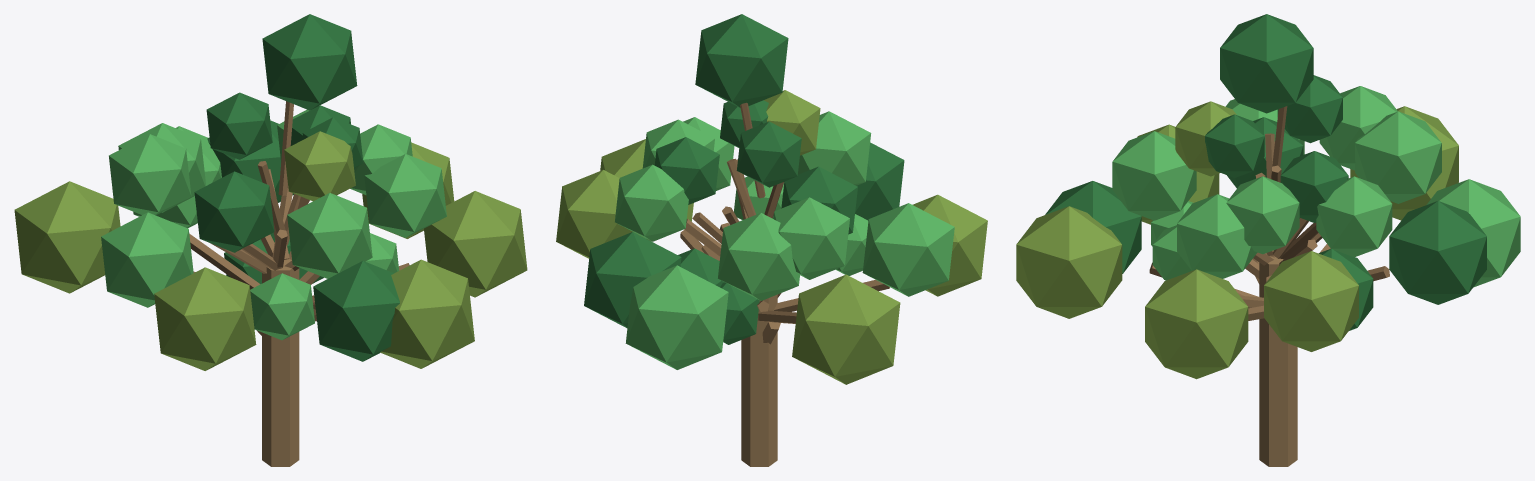
File: Tree_09.glb
3 views of the same model, side by side, from view 1: azimuth 30°, elevation 25°; view 2: azimuth 150°, elevation 25°; view 3: azimuth 270°, elevation 25° (orthographic). The views are drawn at different scales.
Parts seen in each view (by area): view 1: T09_Sphere_07, T09_Sphere_08, T09_Sphere_05, T09_Sphere_09, T09_Sphere_03, T09_Sphere_13, T09_Sphere_12, T09_Sphere_18, T09_Trunk, T09_Sphere_14, T09_Sphere_20, T09_Sphere_17 (+14 smaller); view 2: T09_Sphere_07, T09_Sphere_11, T09_Sphere_03, T09_Sphere_12, T09_Sphere_16, T09_Trunk, T09_Sphere_06, T09_Sphere_20, T09_Sphere_10, T09_Sphere_15, T09_Sphere_08, T09_Sphere_18 (+16 smaller); view 3: T09_Sphere_09, T09_Sphere_05, T09_Sphere_06, T09_Sphere_10, T09_Sphere_03, T09_Sphere_16, T09_Trunk, T09_Sphere_18, T09_Sphere_14, T09_Sphere_15, T09_Sphere_11, T09_Sphere_19 (+14 smaller).
Boxes of the visible parts, <box> form: T09_Sphere_07: <box>14,181,120,293</box>; T09_Sphere_08: <box>154,267,256,370</box>; T09_Sphere_05: <box>424,191,527,297</box>; T09_Sphere_09: <box>380,259,474,368</box>; T09_Sphere_03: <box>262,14,357,110</box>; T09_Sphere_13: <box>313,261,399,361</box>; T09_Sphere_12: <box>101,212,193,307</box>; T09_Sphere_18: <box>287,193,372,278</box>; T09_Trunk: <box>262,259,299,466</box>; T09_Sphere_14: <box>364,154,446,237</box>; T09_Sphere_20: <box>109,134,191,215</box>; T09_Sphere_17: <box>194,171,274,252</box>; T09_Sphere_07: <box>792,274,900,384</box>; T09_Sphere_11: <box>625,265,728,369</box>; T09_Sphere_03: <box>695,14,788,107</box>; T09_Sphere_12: <box>862,203,954,296</box>; T09_Sphere_16: <box>718,213,800,300</box>; T09_Trunk: <box>741,294,777,466</box>; T09_Sphere_06: <box>584,232,681,327</box>; T09_Sphere_20: <box>773,197,849,279</box>; T09_Sphere_10: <box>556,170,645,258</box>; T09_Sphere_15: <box>615,164,688,241</box>; T09_Sphere_08: <box>912,194,987,296</box>; T09_Sphere_18: <box>797,111,871,185</box>; T09_Sphere_09: <box>1016,206,1122,318</box>; T09_Sphere_05: <box>1145,269,1248,379</box>; T09_Sphere_06: <box>1389,201,1486,304</box>; T09_Sphere_10: <box>1264,251,1358,351</box>; T09_Sphere_03: <box>1220,14,1313,113</box>; T09_Sphere_16: <box>1355,111,1441,203</box>; T09_Trunk: <box>1259,253,1297,466</box>; T09_Sphere_18: <box>1112,131,1196,220</box>; T09_Sphere_14: <box>1177,194,1257,278</box>; T09_Sphere_15: <box>1316,176,1392,257</box>; T09_Sphere_11: <box>1426,179,1520,287</box>; T09_Sphere_19: <box>1226,176,1299,254</box>.
Size of the model in its own units: 2.96 by 3.16 by 3.16.
